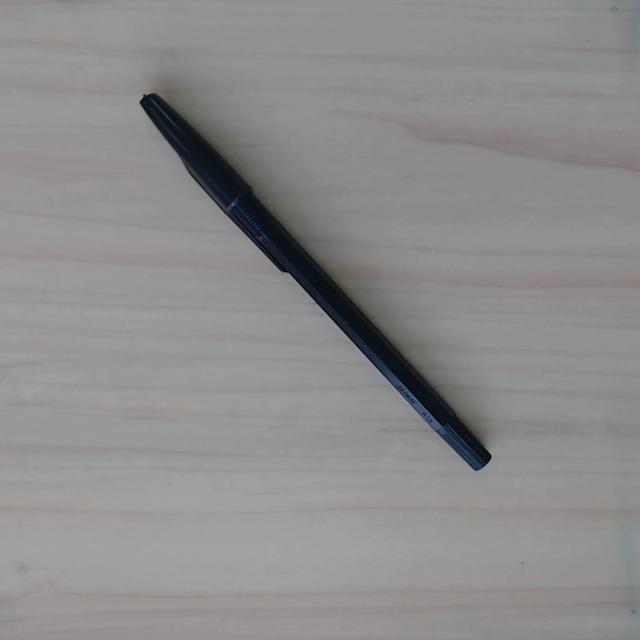Pulpen-Hitam: (129, 84, 495, 481)
